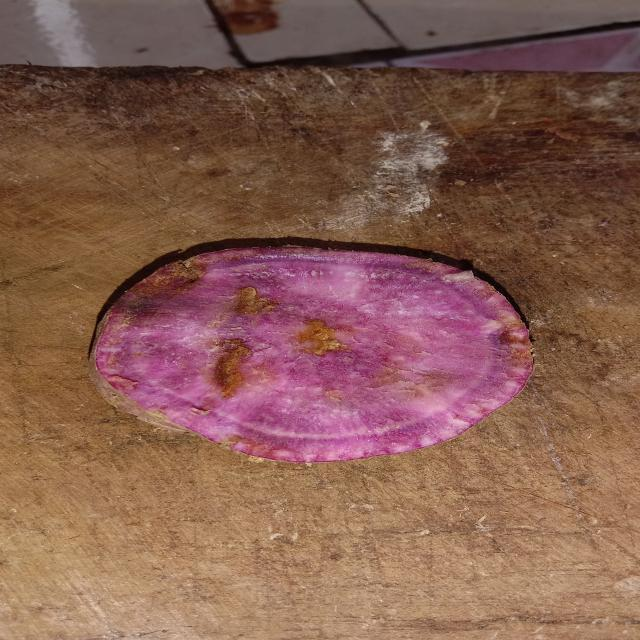Sick Sweet Potato_Tuber Rot: (91, 246, 533, 462)
